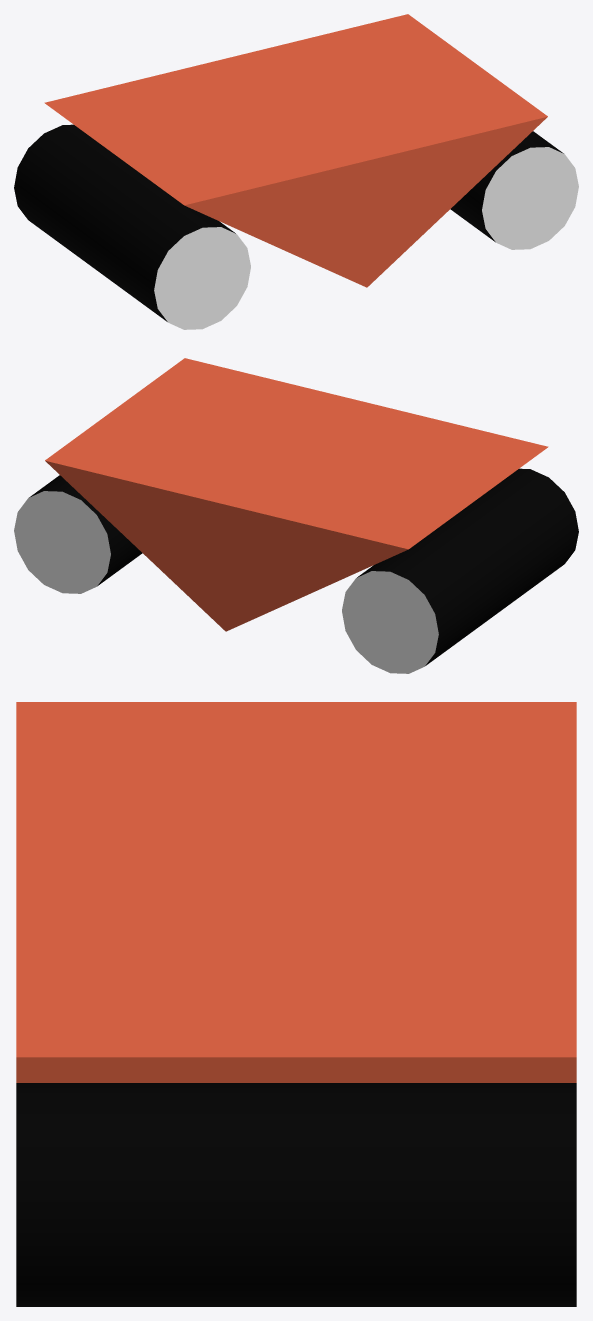
File: SM_TankBase.fbx
The picture shows the model from 3 angles, top to bottom: view 1: azimuth 30°, elevation 25°; view 2: azimuth 150°, elevation 25°; view 3: azimuth 270°, elevation 25°; orthographic projection. The views are drawn at different scales.
Visible parts, largest first — view 1: pt_base; view 2: pt_base; view 3: pt_base.
Boxes of the visible parts, x1,y1,x2,y2 form: pt_base: (14, 14, 578, 329); pt_base: (14, 358, 578, 673); pt_base: (16, 702, 576, 1306).
Bounding box in the file's own units: 200 × 350 × 101.
